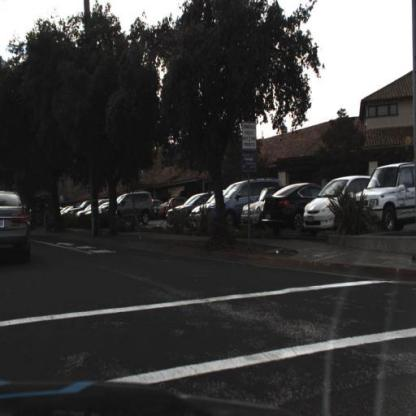car: (306, 176, 381, 236), (356, 163, 416, 234), (208, 179, 281, 228), (261, 180, 329, 231), (1, 187, 35, 276), (260, 183, 322, 224), (102, 190, 156, 230), (244, 179, 284, 230), (169, 192, 212, 230), (191, 191, 223, 224), (243, 187, 270, 222), (86, 199, 111, 230), (60, 202, 78, 233), (78, 199, 94, 228)
